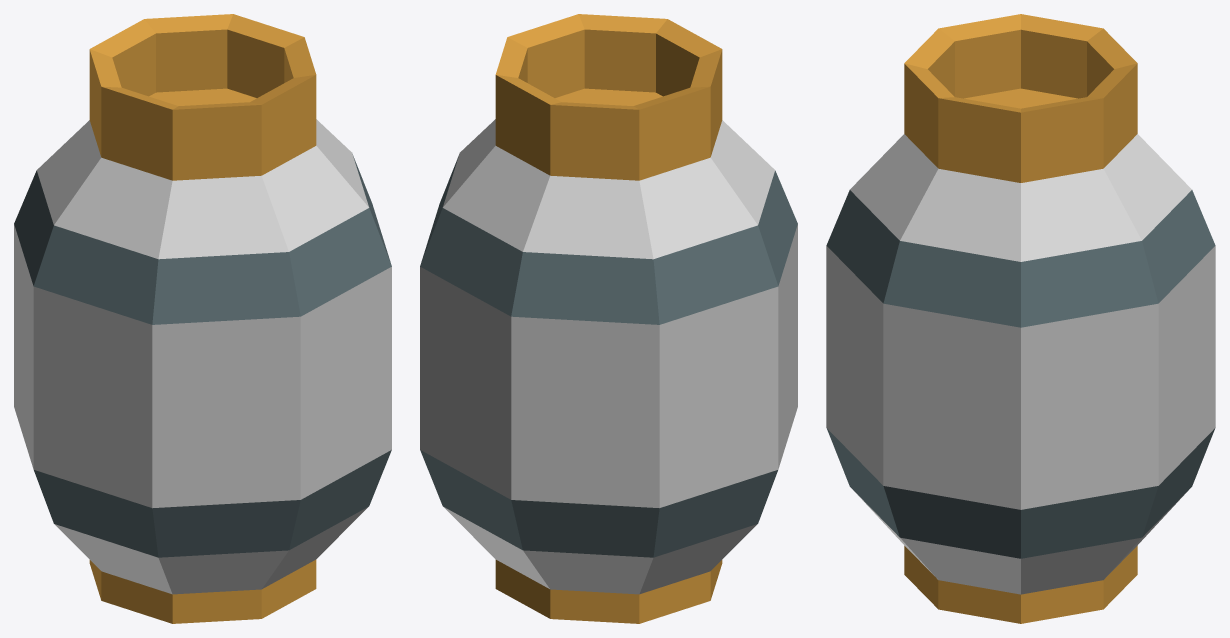
Rendered from scifi_cylinder_2.fbx.
3 views of the same model, side by side, from view 1: azimuth 30°, elevation 25°; view 2: azimuth 150°, elevation 25°; view 3: azimuth 270°, elevation 25° (orthographic).
Parts seen in each view (by area): view 1: Cylinder.005; view 2: Cylinder.005; view 3: Cylinder.005.
Part boxes in pixels (x1,y1,x2,y2): Cylinder.005: (14,14,391,623); Cylinder.005: (420,14,797,623); Cylinder.005: (826,14,1215,623).
Size of the model in its own units: 0.6 by 0.87 by 0.6.
